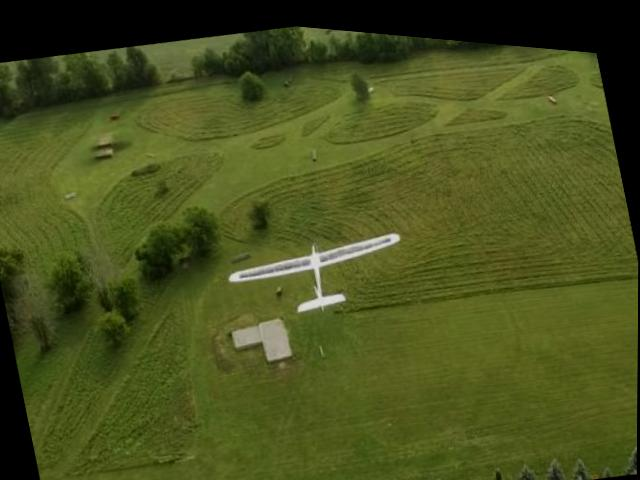uav: (210, 199, 425, 344)
